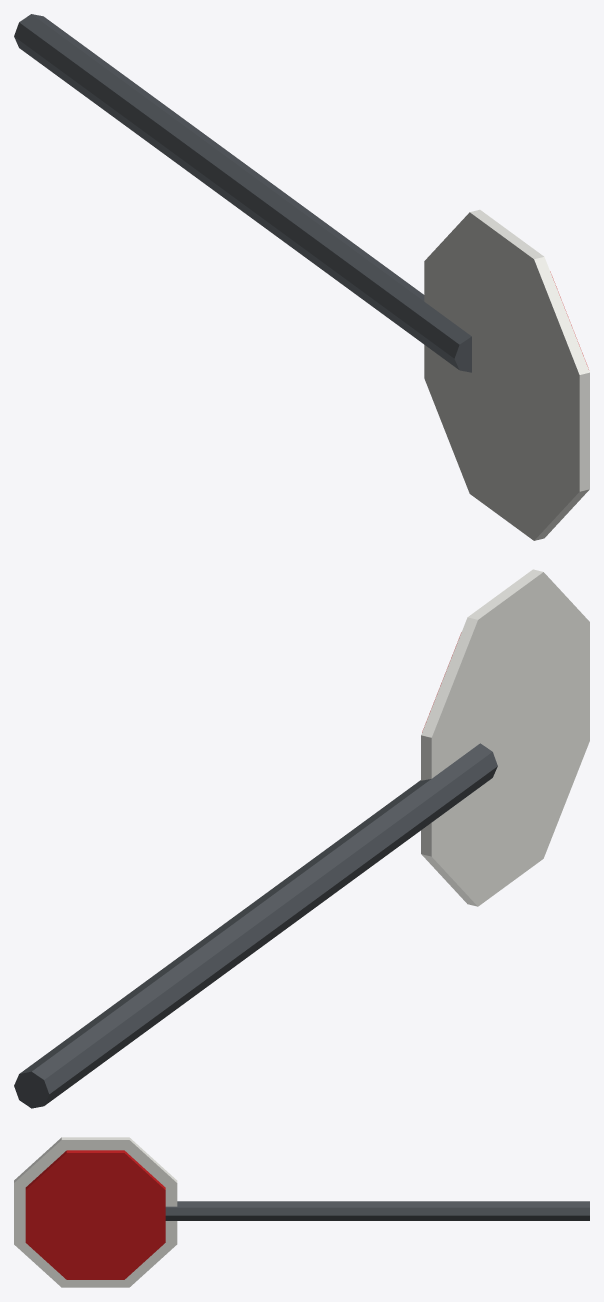
File: sign_stop.obj
3 renders of one model, top to bottom at view 1: azimuth 30°, elevation 25°; view 2: azimuth 150°, elevation 25°; view 3: azimuth 270°, elevation 25°, orthographic. The views are drawn at different scales.
Visible parts, largest first — view 1: sign_stop_rim, sign_stop_pole; view 2: sign_stop_rim, sign_stop_pole; view 3: sign_stop_face, sign_stop_pole, sign_stop_rim.
Part boxes in pixels (x1,y1,x2,y2): sign_stop_rim: [424, 209, 589, 540]; sign_stop_pole: [14, 14, 471, 372]; sign_stop_rim: [421, 569, 589, 906]; sign_stop_pole: [14, 743, 497, 1108]; sign_stop_face: [25, 1150, 165, 1279]; sign_stop_pole: [165, 1201, 589, 1220]; sign_stop_rim: [14, 1137, 177, 1287].
Size of the model in its own units: 0.11 by 0.7761 by 2.74.
